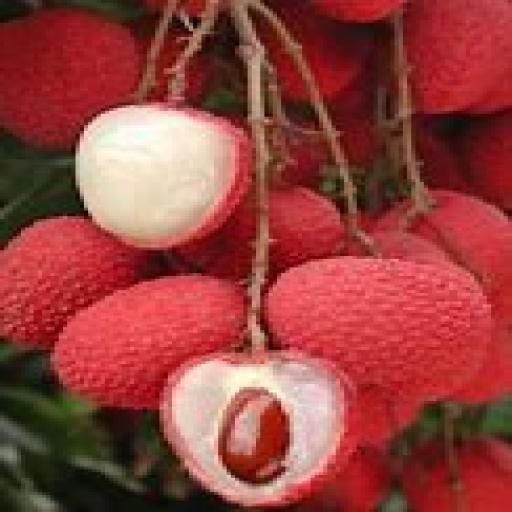lychee: (265, 256, 491, 401), (160, 350, 356, 506), (76, 103, 251, 247), (55, 276, 243, 409), (0, 217, 151, 347), (0, 9, 142, 147), (378, 191, 511, 315), (403, 0, 511, 113), (273, 0, 373, 99), (403, 439, 511, 511), (269, 188, 344, 273), (298, 447, 390, 511), (458, 111, 511, 210), (454, 325, 511, 403), (315, 0, 407, 22)
